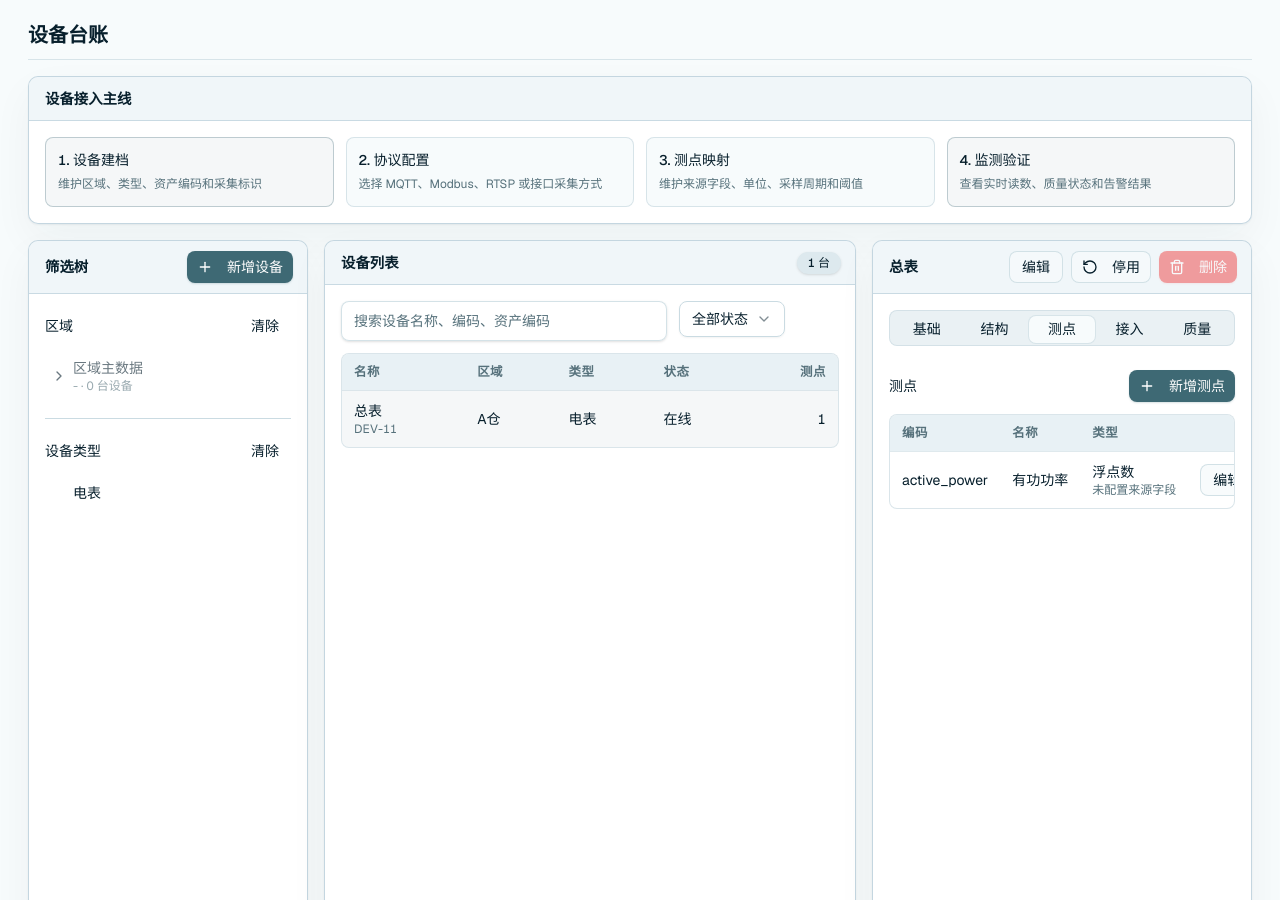
Test: master data workbench › creates device and point through selectors instead of raw ids
Expected: the text "总表" is shown, [354,402,382,420]
Expected: the text "有功功率" is shown, [1000,451,1080,508]
Step 1. Click the button "新增设备" → (240, 267), box [187,251,293,283]
(page scrolled)
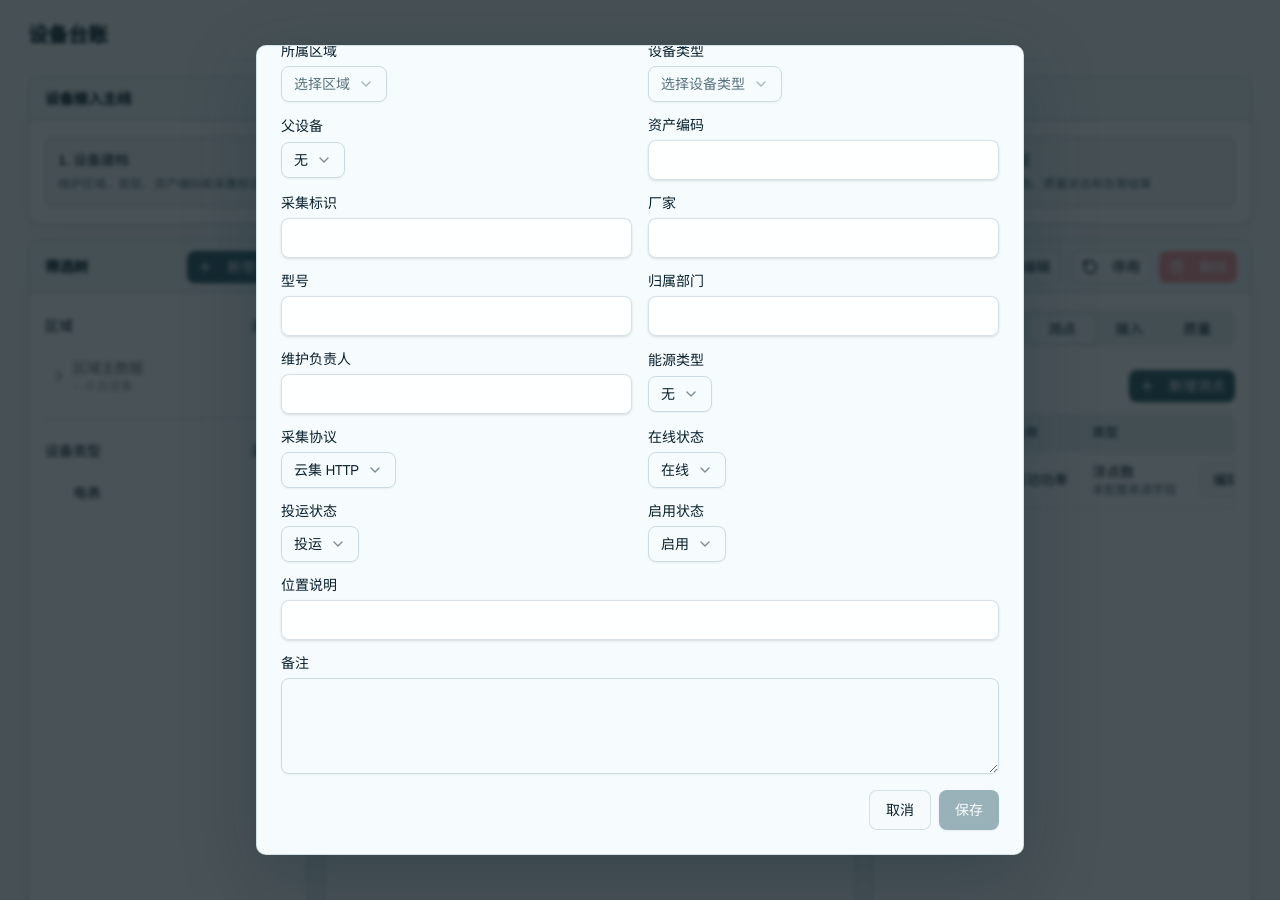
Expected: the text "设备类型" is shown, [45,441,101,461]
Now the text "所属区域" is shown, box [281,45,337,60]
Step 2. Click the button "取消" → (900, 810), box [869,790,931,830]
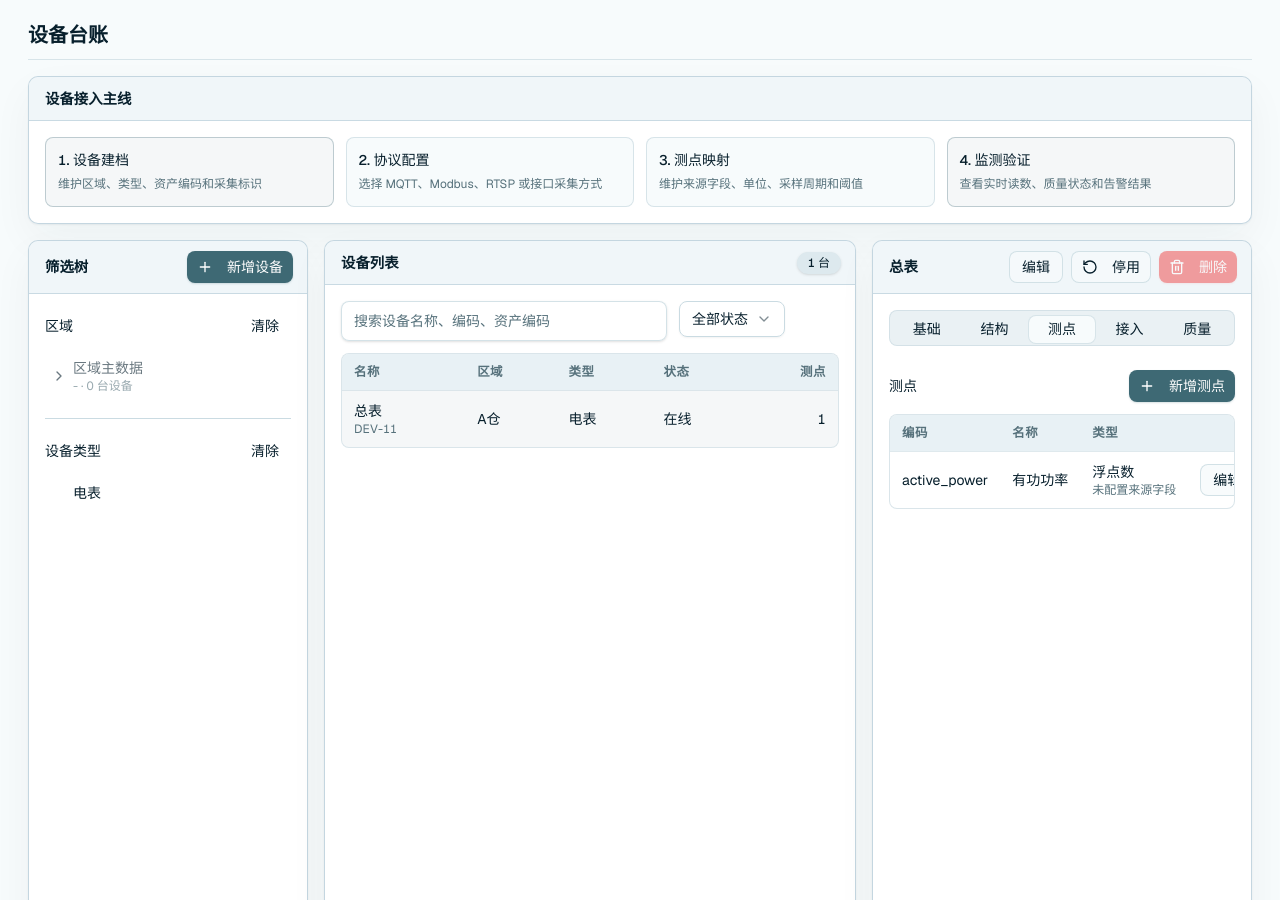
Step 3. Click the button "新增测点" → (1182, 386), box [1129,370,1235,402]
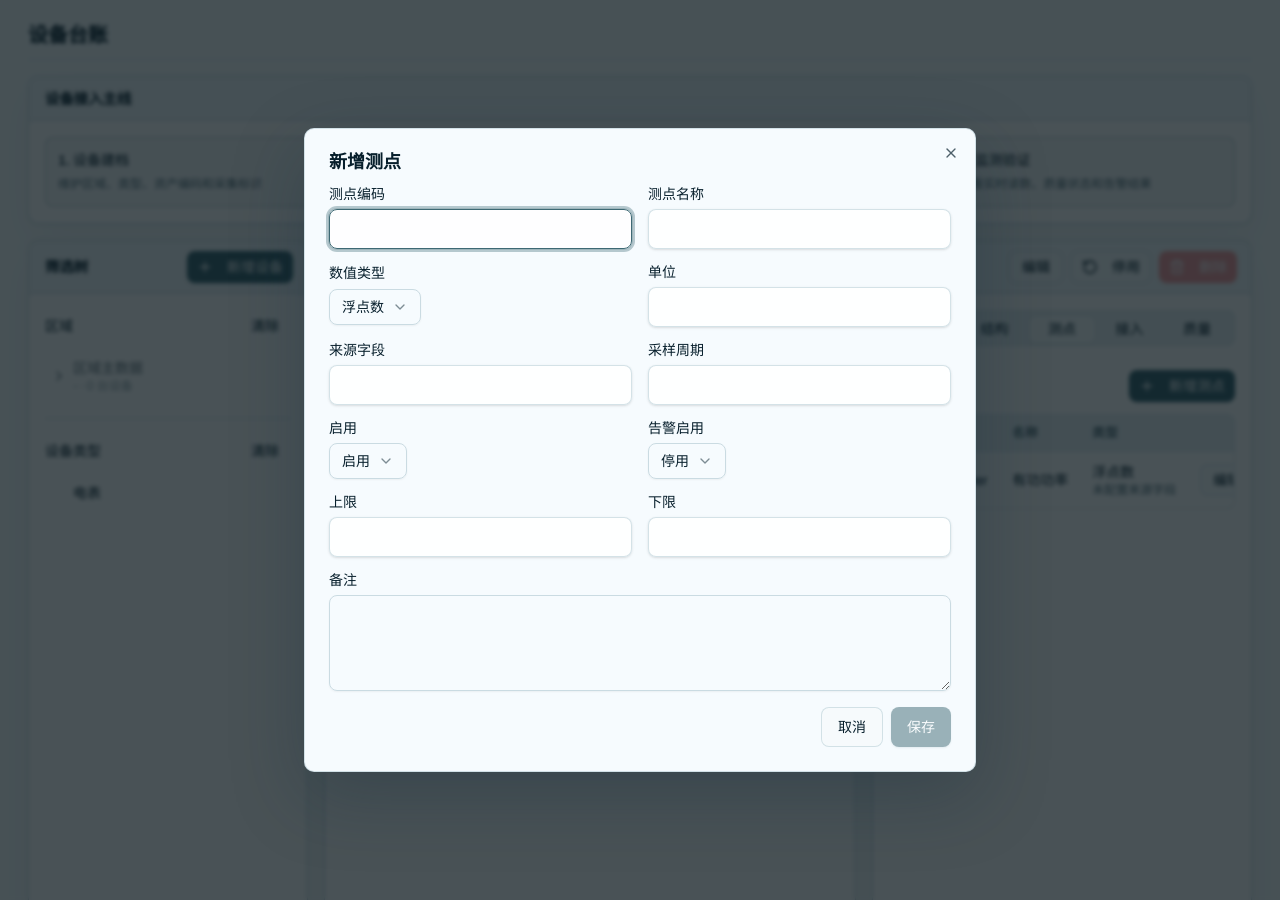
Now the text "测点编码" is shown, box [329,185,385,203]
